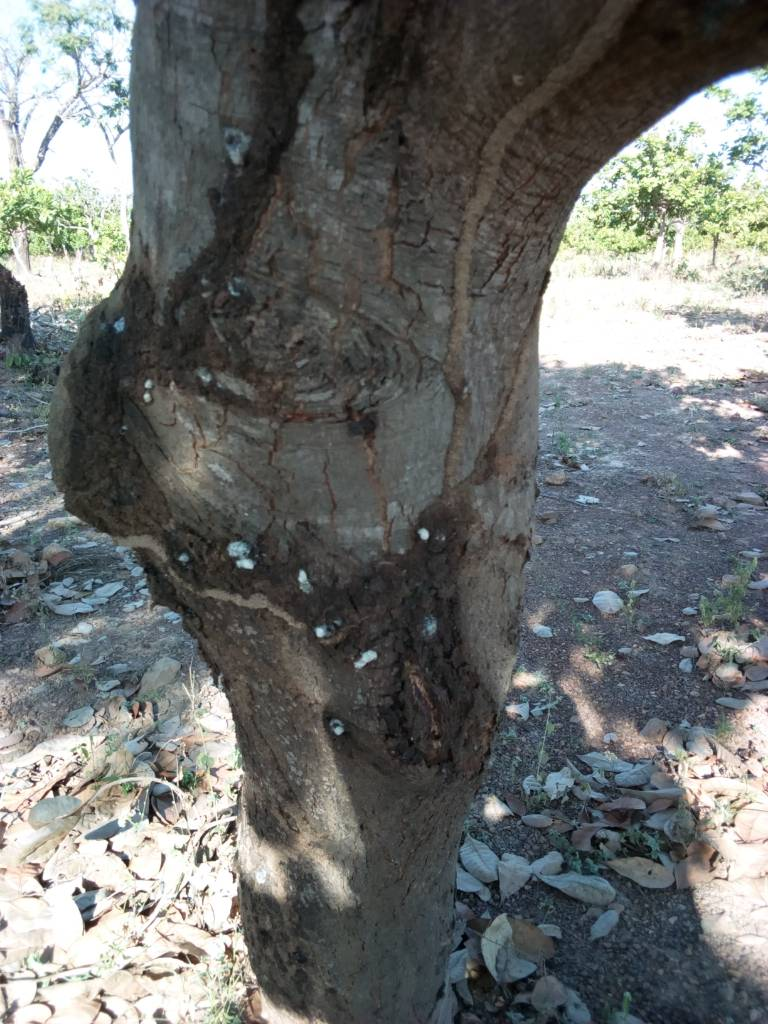Termites: (138, 24, 311, 378)
